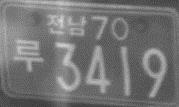0: (110, 16, 129, 41)
1: (117, 44, 134, 97)
3: (52, 41, 82, 91)
4: (83, 44, 112, 95)
7: (90, 14, 108, 41)
9: (142, 46, 168, 100)
루: (13, 38, 45, 73)
전남_O: (45, 13, 87, 36)
